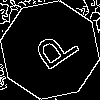P: (25, 25, 82, 78)
